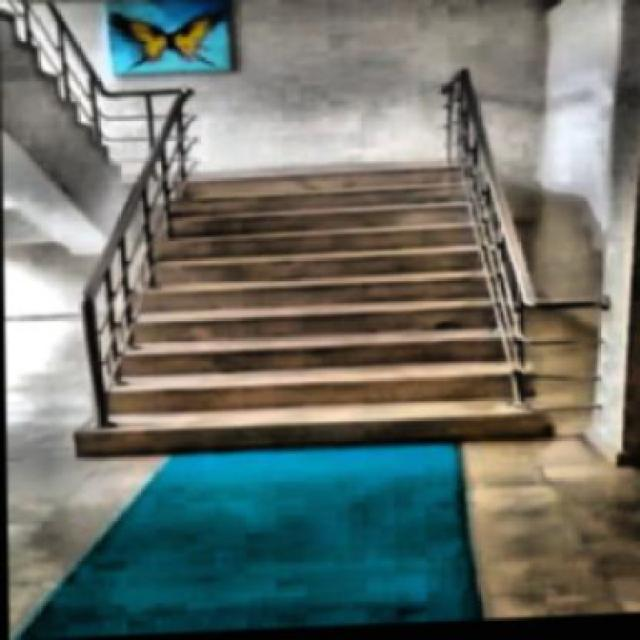stair: (66, 163, 545, 465)
